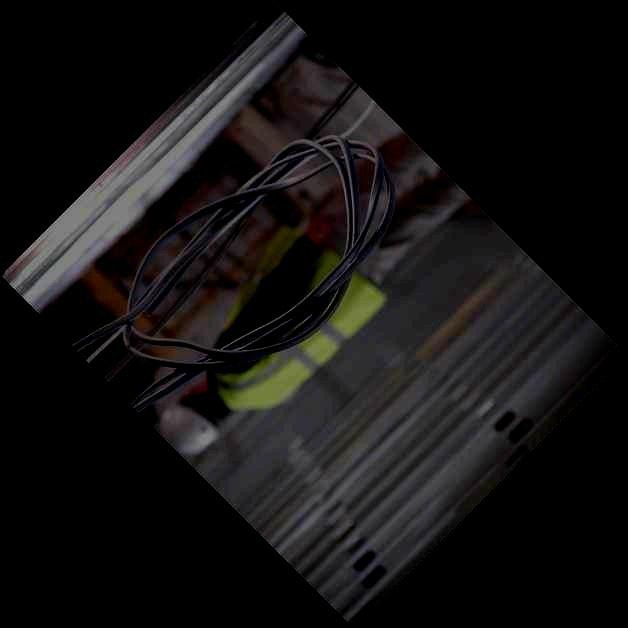helmet: (158, 383, 230, 458)
